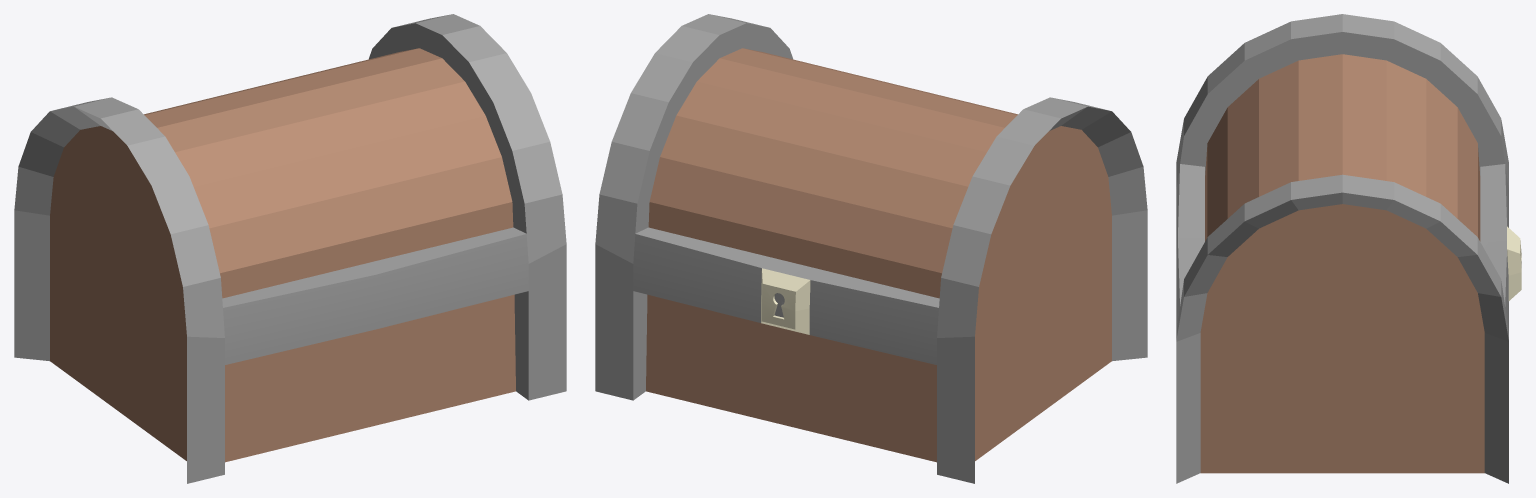
Rendered from Chest.fbx.
The picture shows the model from 3 angles, left to right: view 1: azimuth 30°, elevation 25°; view 2: azimuth 150°, elevation 25°; view 3: azimuth 270°, elevation 25°; orthographic projection. The views are drawn at different scales.
Visible parts, largest first — view 1: Chest; view 2: Chest; view 3: Chest.
Part boxes in pixels (left/top/right/bottom): Chest: left=14, top=14, right=566, bottom=483; Chest: left=595, top=14, right=1147, bottom=483; Chest: left=1176, top=14, right=1521, bottom=483.
Bounding box in the file's own units: 137 × 104 × 112.
